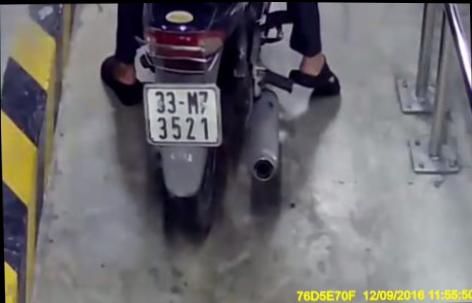LP: (142, 79, 223, 149)
